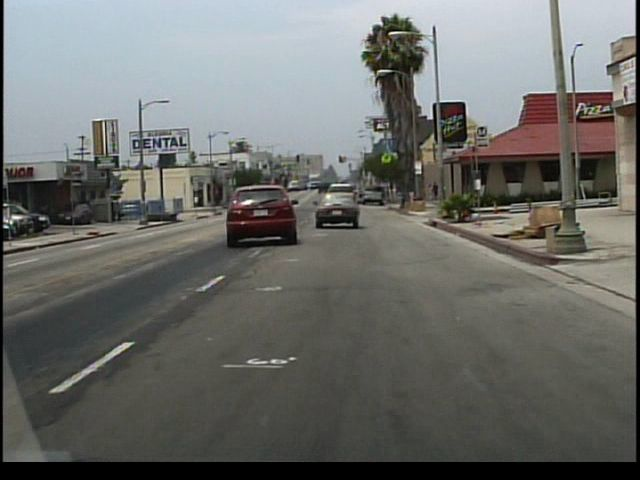person: (432, 180, 440, 200), (427, 183, 434, 203)
